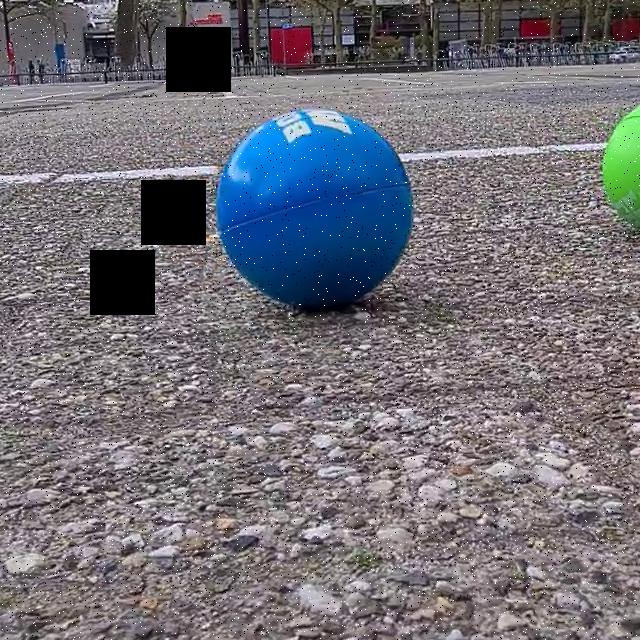ball: (212, 104, 422, 311)
